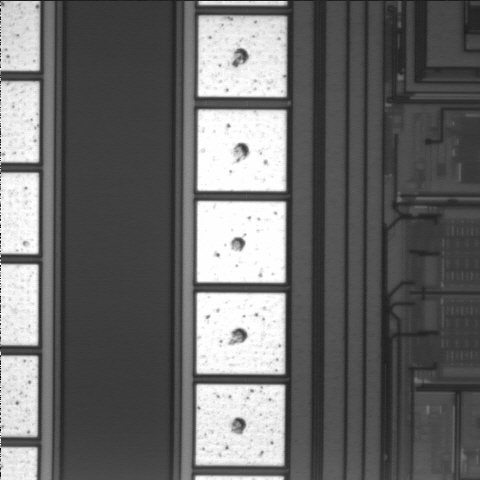pad: (197, 201, 286, 283), (196, 384, 285, 466), (198, 16, 287, 97), (197, 110, 286, 191), (196, 293, 285, 374)
